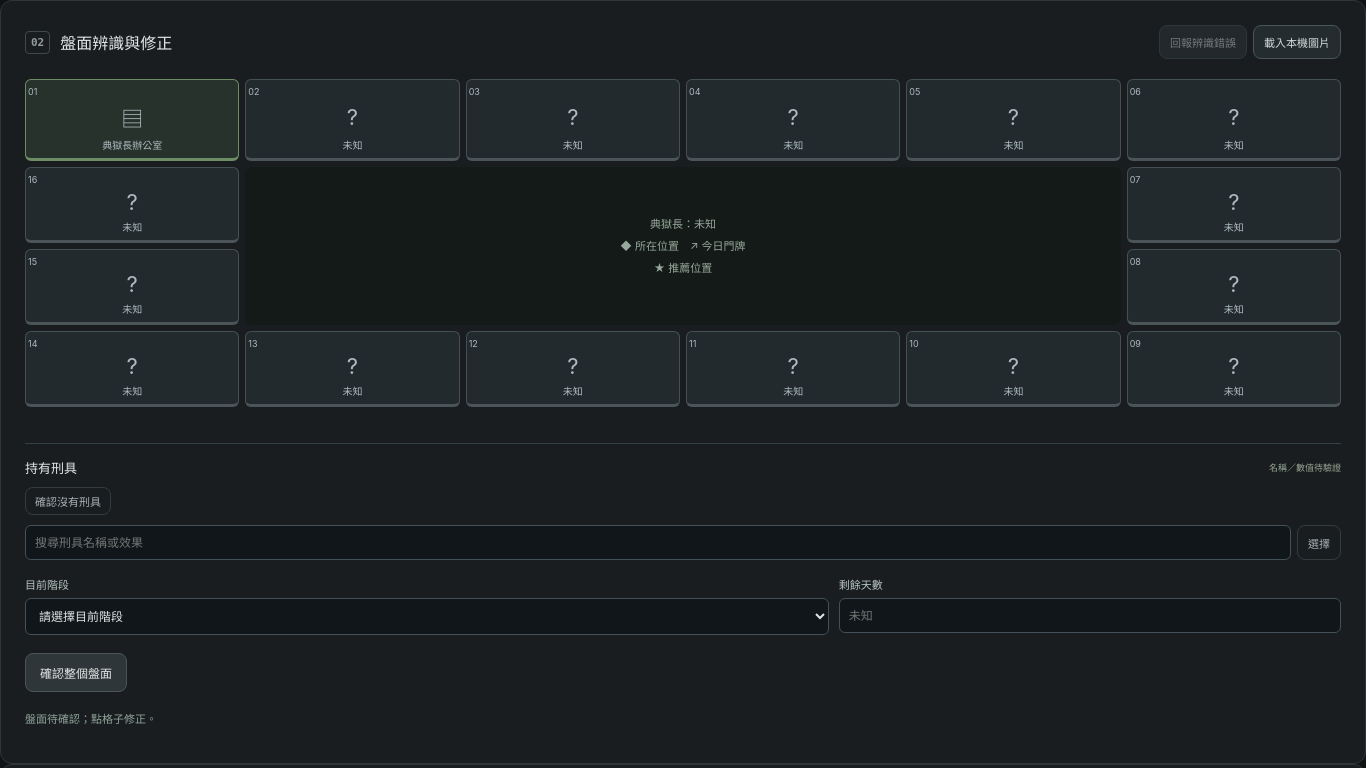
Scenario: opens a nearby editor directly when a cell is clicked
The image size is (1366, 768).
Expected: the field labelled "狀態" is not shown
Click the button with aria-label "格子 2 未知" at (352, 120), box [245,79,460,161]
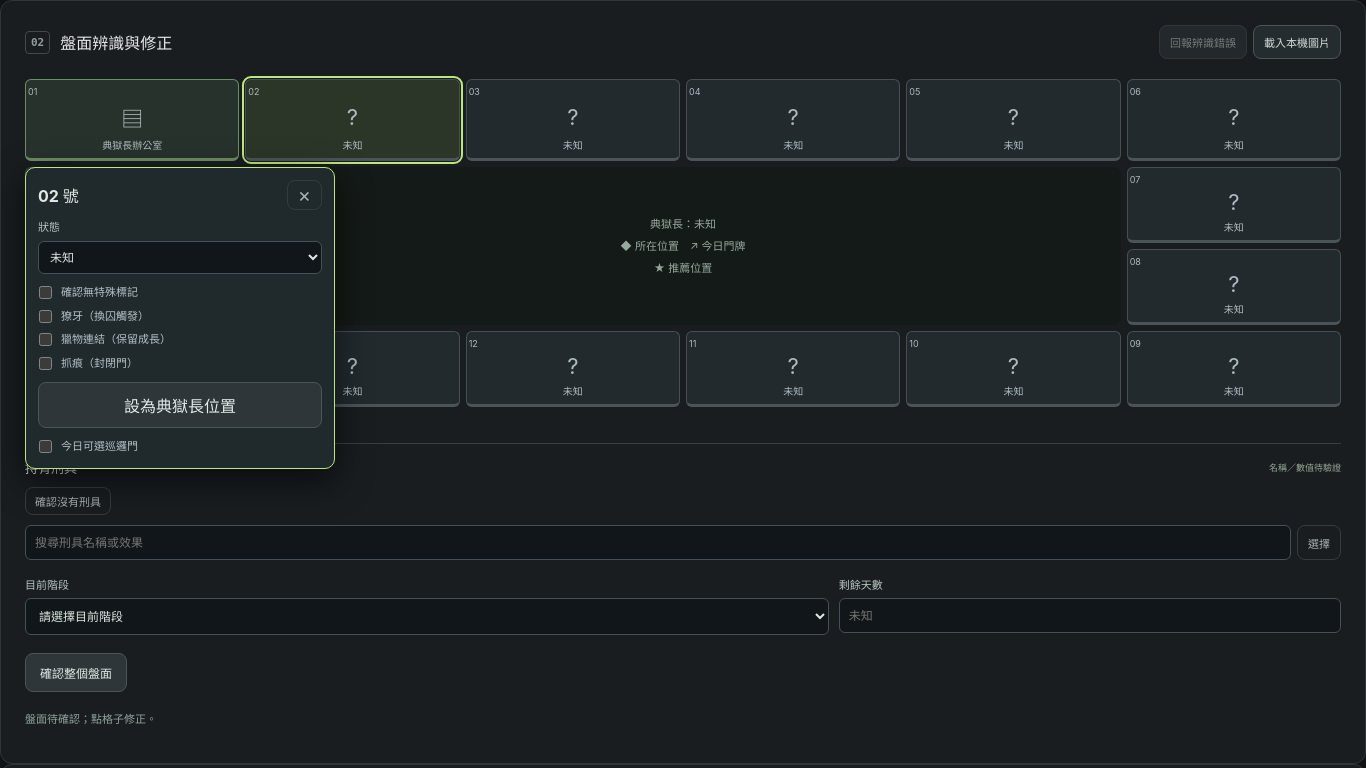
Select "囚犯" in the dropdown labelled "狀態" at (180, 258), box [38,241,322,274]
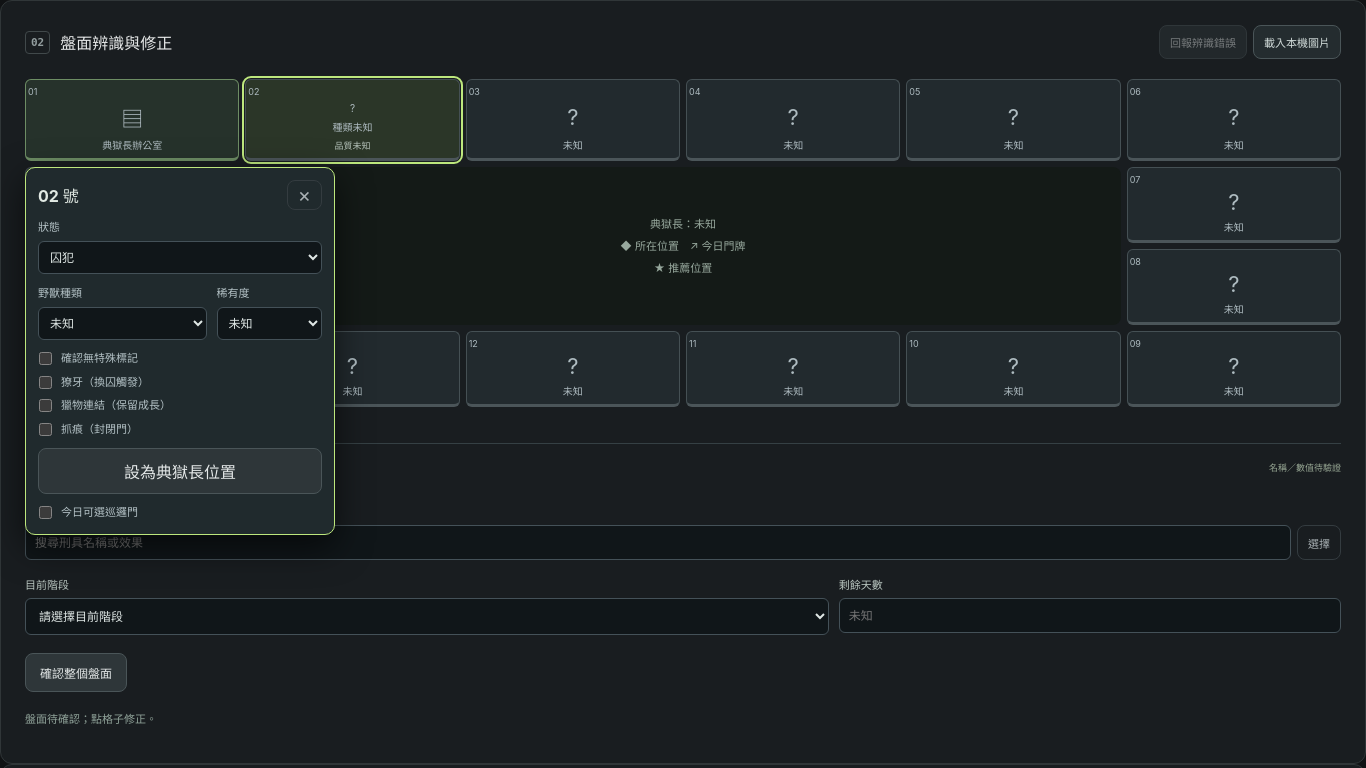
Select "獅子（惡魔獅）" in the dropdown labelled "野獸種類" at (122, 324), box [38,307,207,340]
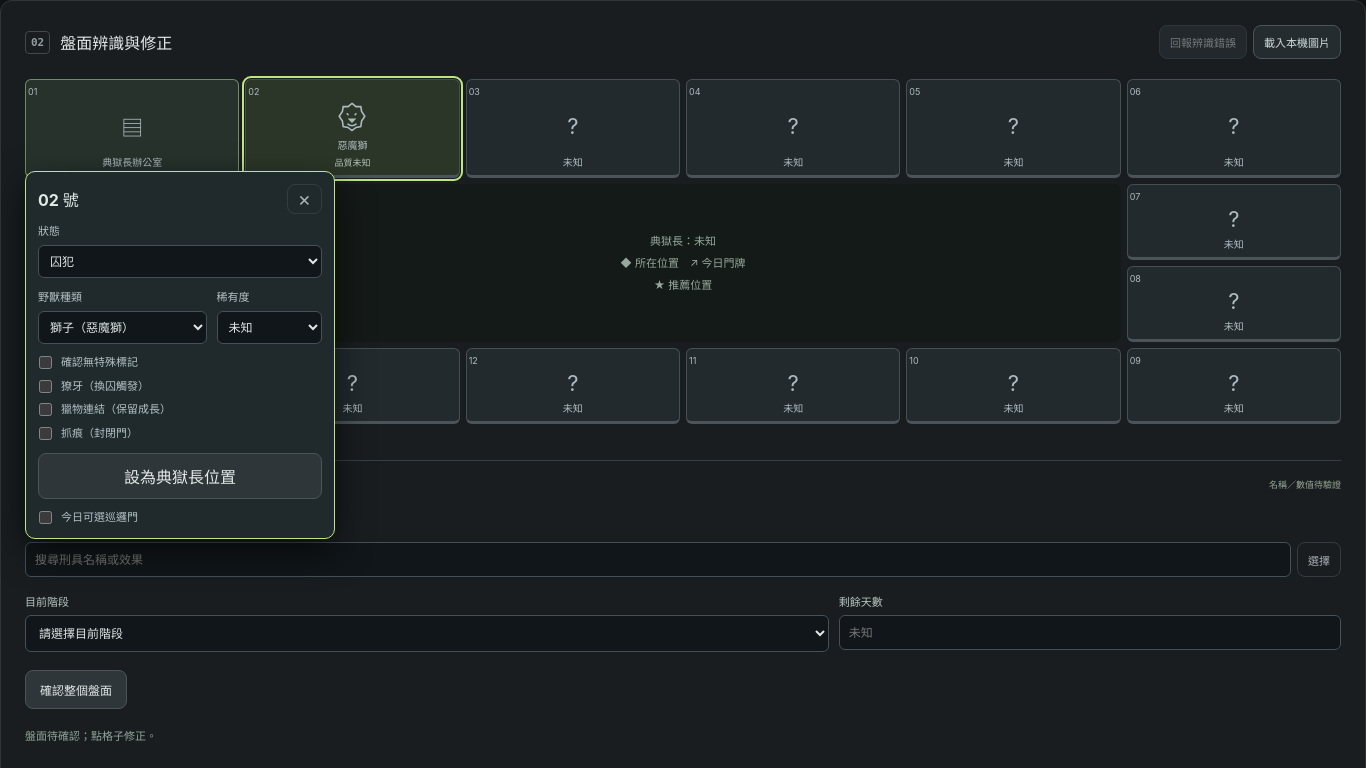
Click the button named "關閉格子編輯" at (304, 199), box [287,184,322,214]
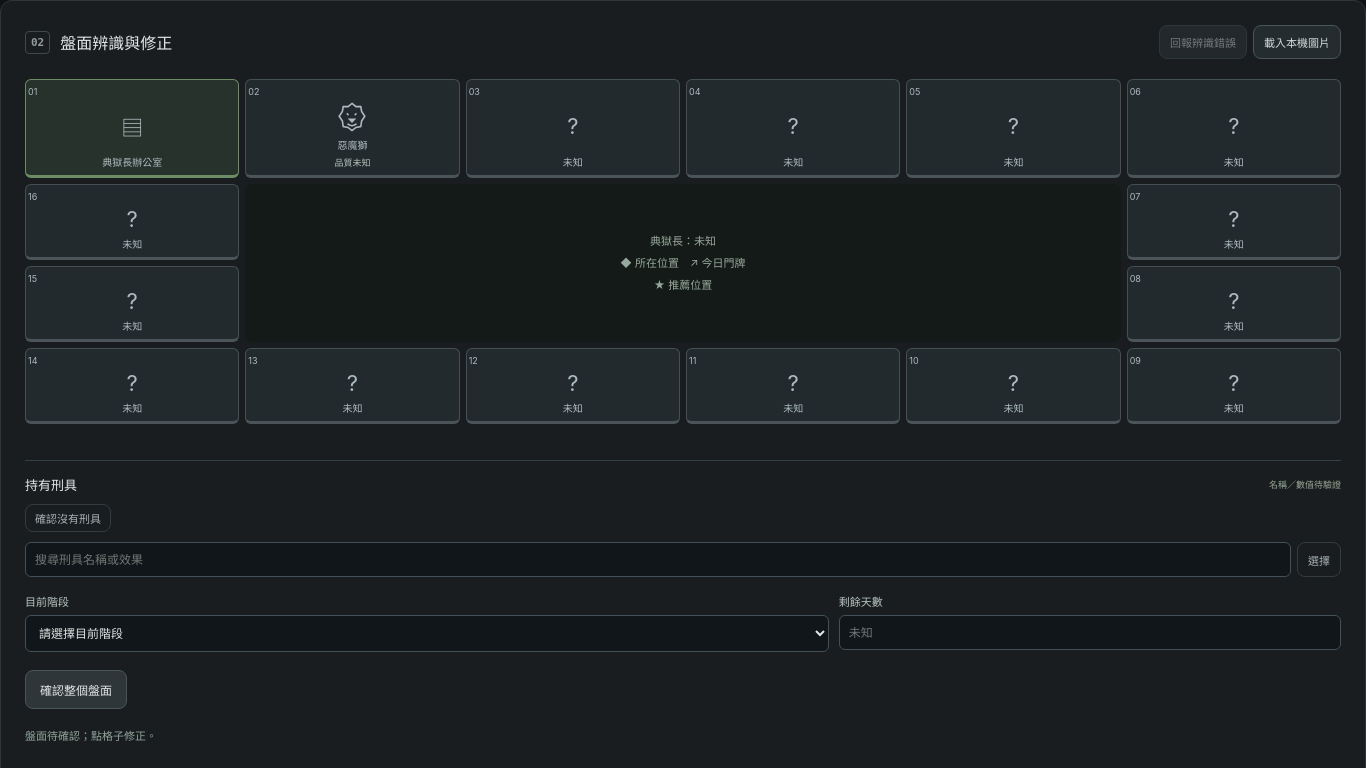
Expected: the button with aria-label "格子 2 囚犯" shows "惡魔獅", [245,79,460,178]
Expected: the label labelled "狀態" is gone
